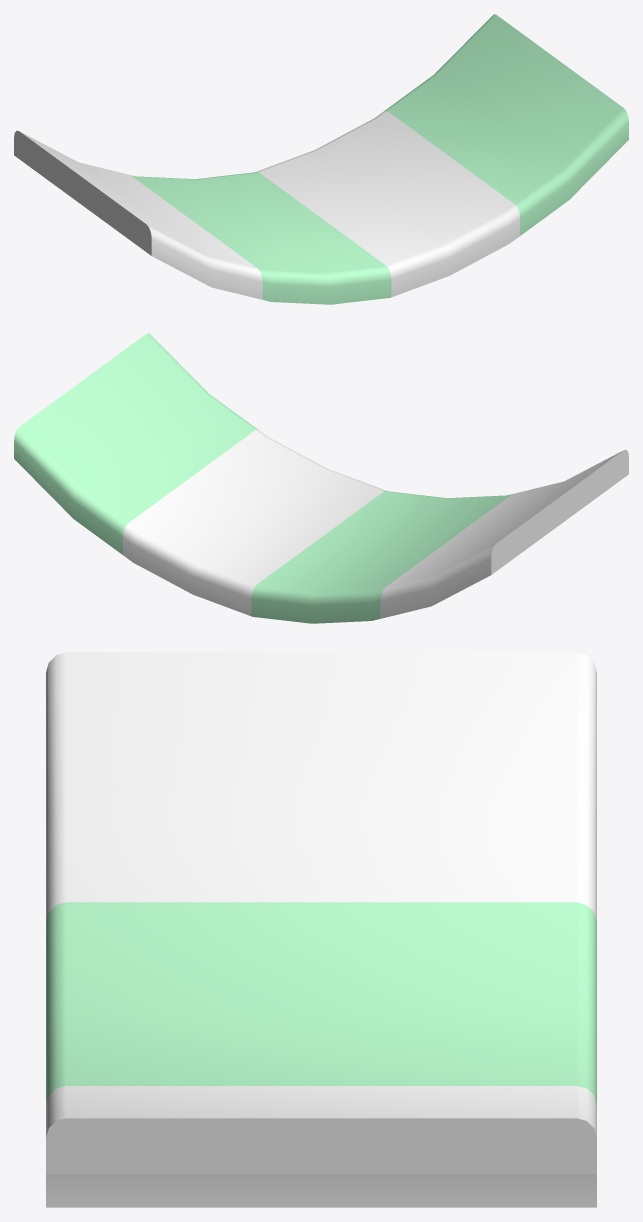
The model's file is RoadDown_green.fbx.
The picture shows the model from 3 angles, top to bottom: view 1: azimuth 30°, elevation 25°; view 2: azimuth 150°, elevation 25°; view 3: azimuth 270°, elevation 25°; orthographic projection. The views are drawn at different scales.
Visible parts, largest first — view 1: RoadDown_green; view 2: RoadDown_green; view 3: RoadDown_green.
Boxes of the visible parts, x1,y1,x2,y2 form: RoadDown_green: [14, 14, 628, 304]; RoadDown_green: [14, 333, 628, 623]; RoadDown_green: [46, 652, 596, 1207].
Size of the model in its own units: 600 by 154 by 300.
1 material, 1 textured.
